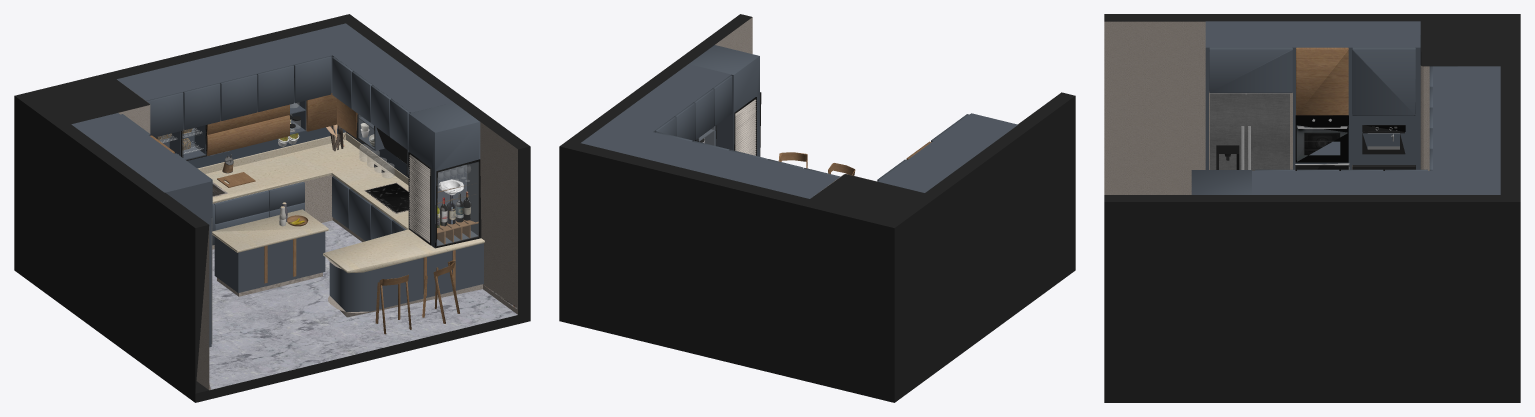
The model's file is kitchen-low.glb.
3 renders of one model, left to right at view 1: azimuth 30°, elevation 25°; view 2: azimuth 150°, elevation 25°; view 3: azimuth 270°, elevation 25°, orthographic. The views are drawn at different scales.
Parts seen in each view (by area): view 1: Walls_Black_0, Cabinets_Closet_0, Walls_Floor_0, Cabinets_Countertop_0, Walls_White_0, WoodCabinet_OakWood_0, Island_Closet_0, GlassC_Glass_0, Island_Countertop_0, Cabinets_White_0, Walls_ClosetGlossy_0, Vent_Chrome_0 (+5 smaller); view 2: Walls_Black_0, Cabinets_Closet_0, Vent_Chrome_0, Walls_White_0, Stool_OakWood_0; view 3: Walls_Black_0, Cabinets_Closet_0, Walls_White_0, RLF_74925_Aluminum_0, WoodCabinet_OakWood_0, HLB_840_Black_Metal_0, HLB_840_Front.001_0, CLC855_URBAN_Black_0.
Part boxes in pixels (<box>): Walls_Black_0: <box>14,14,530,402</box>; Cabinets_Closet_0: <box>71,23,483,347</box>; Walls_Floor_0: <box>209,220,517,389</box>; Cabinets_Countertop_0: <box>197,132,484,273</box>; Walls_White_0: <box>116,86,517,389</box>; WoodCabinet_OakWood_0: <box>150,93,478,295</box>; Island_Closet_0: <box>214,231,325,292</box>; GlassC_Glass_0: <box>358,114,478,245</box>; Island_Countertop_0: <box>212,209,328,252</box>; Cabinets_White_0: <box>212,175,482,317</box>; Walls_ClosetGlossy_0: <box>187,119,478,177</box>; Vent_Chrome_0: <box>409,154,430,242</box>; Walls_Black_0: <box>559,14,1075,402</box>; Cabinets_Closet_0: <box>581,45,1017,198</box>; Vent_Chrome_0: <box>735,99,756,155</box>; Walls_White_0: <box>715,17,876,192</box>; Stool_OakWood_0: <box>778,152,855,175</box>; Walls_Black_0: <box>1104,14,1520,402</box>; Cabinets_Closet_0: <box>1191,21,1500,194</box>; Walls_White_0: <box>1104,21,1429,194</box>; RLF_74925_Aluminum_0: <box>1210,93,1289,170</box>; WoodCabinet_OakWood_0: <box>1296,47,1348,115</box>; HLB_840_Black_Metal_0: <box>1295,115,1348,162</box>; HLB_840_Front.001_0: <box>1296,125,1347,161</box>; CLC855_URBAN_Black_0: <box>1362,125,1405,154</box>.
Size of the model in its own units: 6.57 by 3.27 by 6.14.
76 materials, 27 textured.
